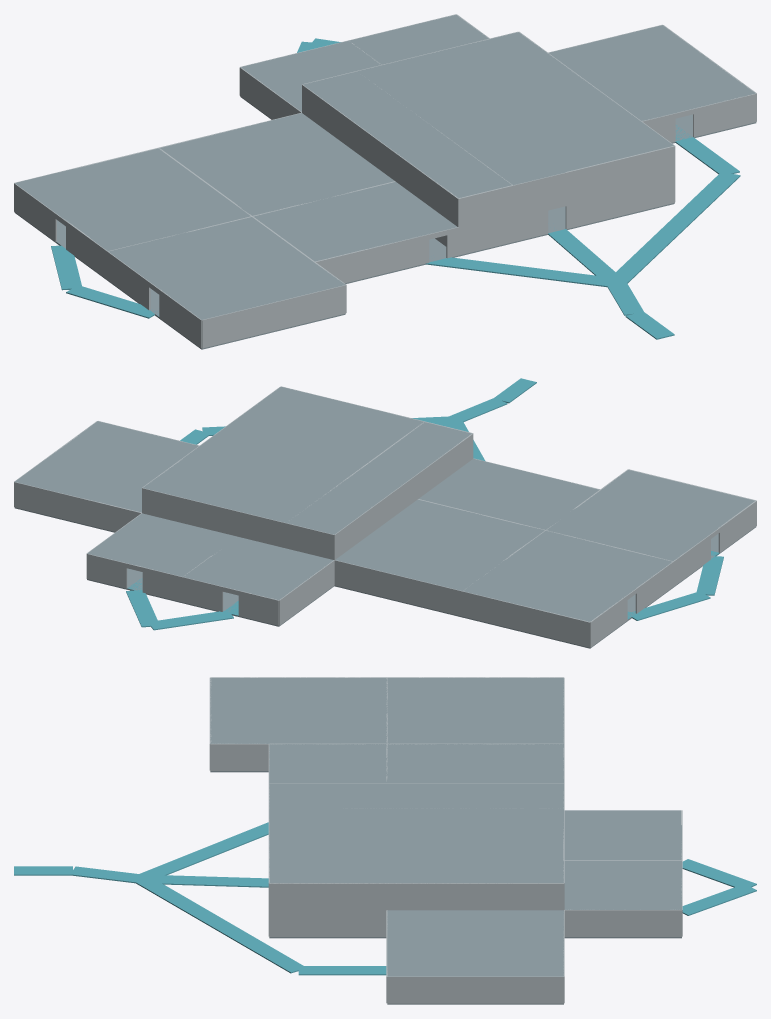
The model's file is rough-shell.glb.
The picture shows the model from 3 angles, top to bottom: view 1: azimuth 30°, elevation 25°; view 2: azimuth 150°, elevation 25°; view 3: azimuth 270°, elevation 25°; orthographic projection. The views are drawn at different scales.
Visible parts, largest first — view 1: Ceiling cap processing, Ceiling cap mess, Ceiling cap boiler, Ceiling cap bunk, Ceiling cap wash, Ceiling cap cold, Wall processing S.001, Ceiling cap gallery, Wall processing S, Ceiling cap bunk.001, Wall bunk S, Ceiling cap stores.001 (+32 smaller); view 2: Ceiling cap processing, Ceiling cap mess, Ceiling cap boiler, Ceiling cap bunk, Ceiling cap wash, Ceiling cap cold, Ceiling cap stores.001, Ceiling cap bunk.001, Wall mess N, Wall boiler N, Wall cold N, Ceiling cap office.002 (+32 smaller); view 3: Ceiling cap processing, Ceiling cap cold, Ceiling cap mess, Wall processing E.001, Ceiling cap bunk, Ceiling cap gallery, Ceiling cap boiler, Ceiling cap stores.001, Wall cold E, Ceiling cap wash, Ceiling cap bunk.001, Wall stores E (+19 smaller).
Part boxes in pixels (x1,y1,x2,y2): Ceiling cap processing: (303,32,673,198); Ceiling cap mess: (15,148,230,236); Ceiling cap boiler: (160,113,374,201); Ceiling cap bunk: (108,217,313,296); Ceiling cap wash: (253,182,457,261); Ceiling cap cold: (549,25,735,106); Wall processing S.001: (565,146,674,229); Ceiling cap gallery: (304,72,506,197); Wall processing S: (458,177,548,255); Ceiling cap bunk.001: (171,262,345,319); Wall bunk S: (201,285,346,348); Ceiling cap stores.001: (357,14,488,62); Ceiling cap processing: (143,386,471,534); Ceiling cap mess: (463,543,654,621); Ceiling cap boiler: (335,512,526,590); Ceiling cap bunk: (546,490,727,560); Ceiling cap wash: (419,458,599,529); Ceiling cap cold: (15,434,180,512); Ceiling cap stores.001: (87,513,230,575); Ceiling cap bunk.001: (601,469,754,520); Wall mess N: (462,591,590,647); Wall boiler N: (334,560,461,616); Wall cold N: (14,482,141,531); Ceiling cap office.002: (183,537,285,588); Ceiling cap processing: (269,783,563,883); Ceiling cap cold: (425,910,563,976); Ceiling cap mess: (425,677,563,743); Wall processing E.001: (269,883,468,936); Ceiling cap bunk: (269,677,387,743); Ceiling cap gallery: (269,783,563,808); Ceiling cap boiler: (425,744,563,783); Ceiling cap stores.001: (564,864,681,909); Wall cold E: (387,976,563,1003); Ceiling cap wash: (269,744,387,783); Ceiling cap bunk.001: (210,677,269,743); Wall stores E: (564,909,681,936).
Size of the model in its own units: 76.99 by 6.16 by 75.65.
